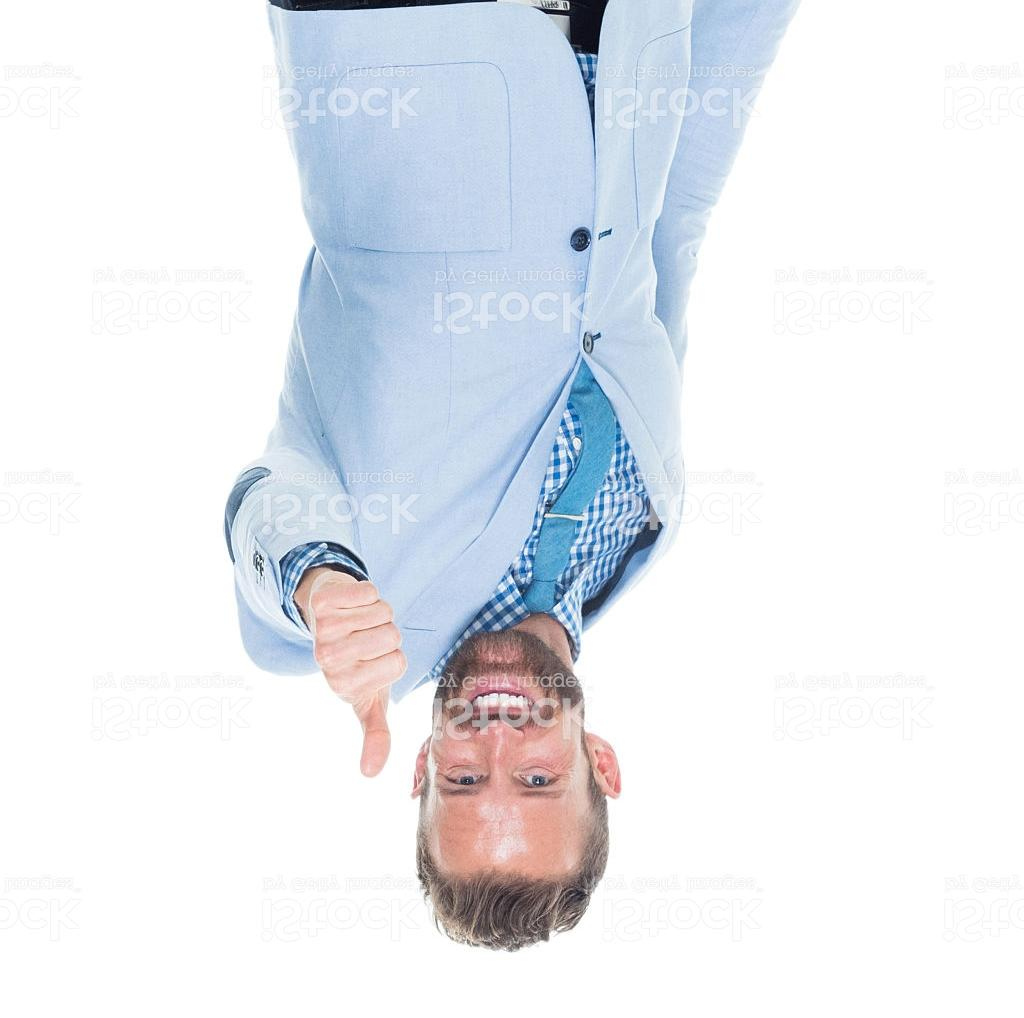thumbsdown: (305, 569, 407, 781)
